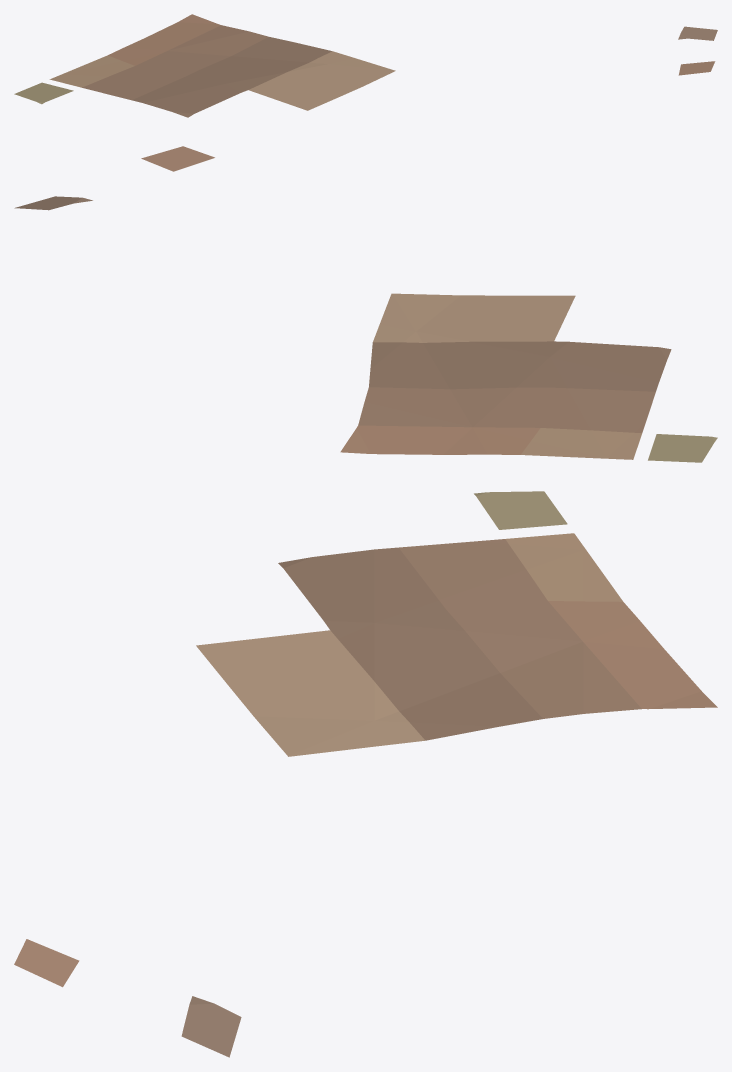
The model's file is farm_-2_17_soil.glb.
3 renders of one model, top to bottom at view 1: azimuth 30°, elevation 25°; view 2: azimuth 150°, elevation 25°; view 3: azimuth 270°, elevation 25°, orthographic. The views are drawn at different scales.
Visible parts, largest first — view 1: geometry_0; view 2: geometry_0; view 3: geometry_0.
Part boxes in pixels (x1,y1,x2,y2): geometry_0: [14, 14, 717, 117]; geometry_0: [14, 146, 717, 462]; geometry_0: [14, 491, 717, 1057].
Bounding box in the file's own units: 480 × 21.59 × 270.
